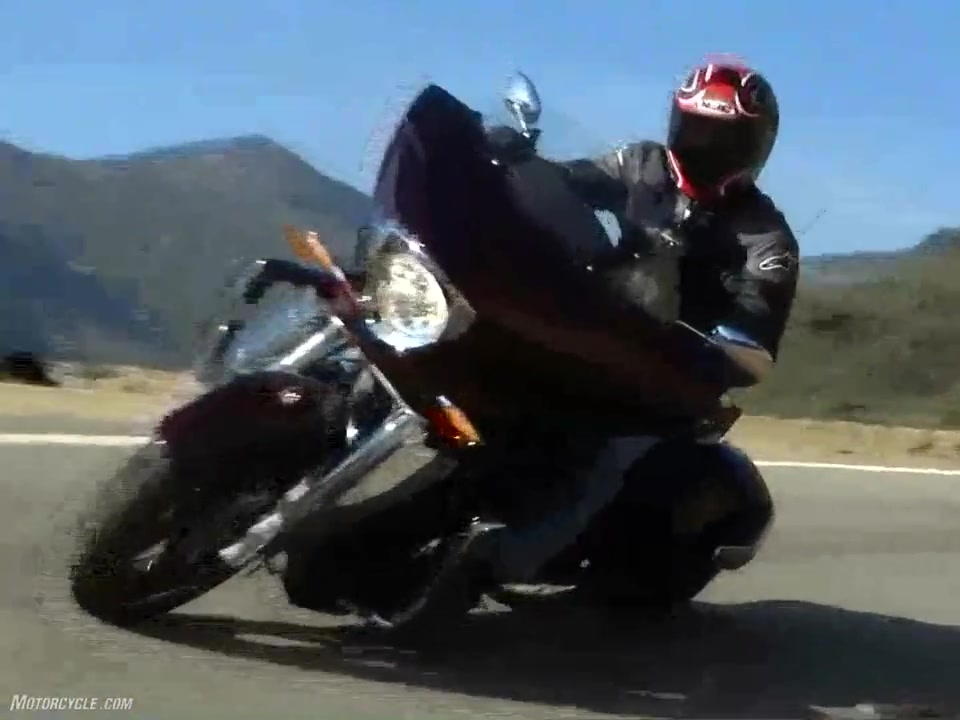motorbike: (72, 71, 780, 654)
